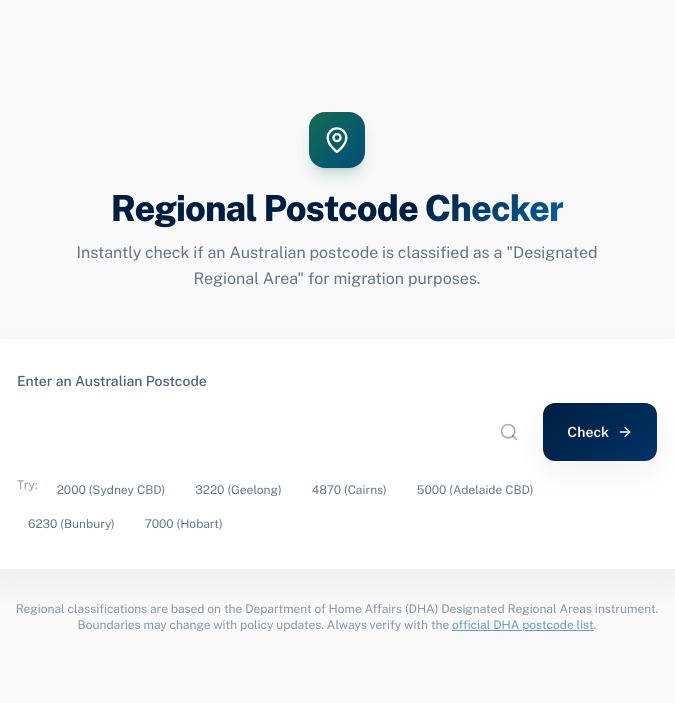
RegionalPostcodePage › searches when clicking Check after filling via quick-try
This screenshot has width=675, height=703.
Click a quick-try button to fill the input
Step 1. Click the button "7000 (Hobart)" → point(184, 524), box [134,511,234,537]
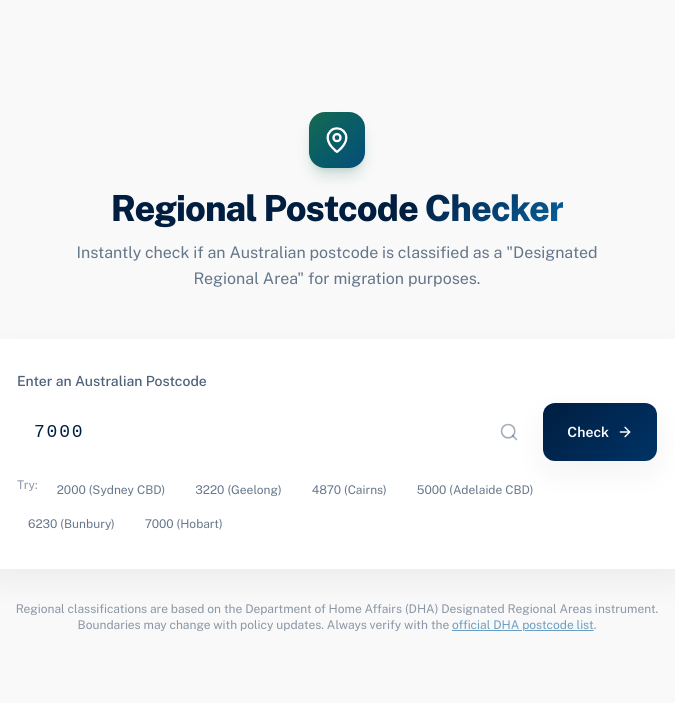
Step 2. Click the button with test id "check-btn" → point(600, 432), box [543,403,657,461]
(page scrolled)
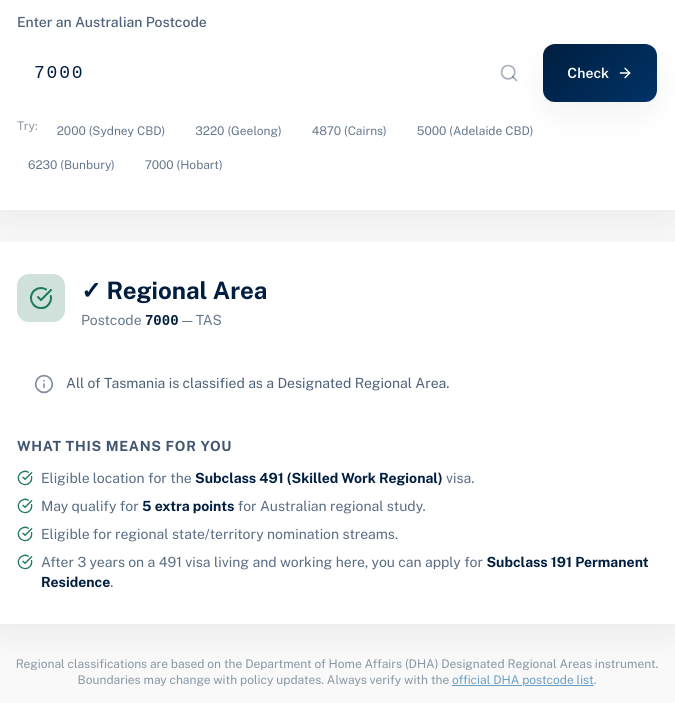
Result: the heading "✓ Regional Area" is shown at [81,274,268,306]
Result: the text "All of Tasmania is classified as a Designated Regional Area." is shown at [66,372,449,395]
